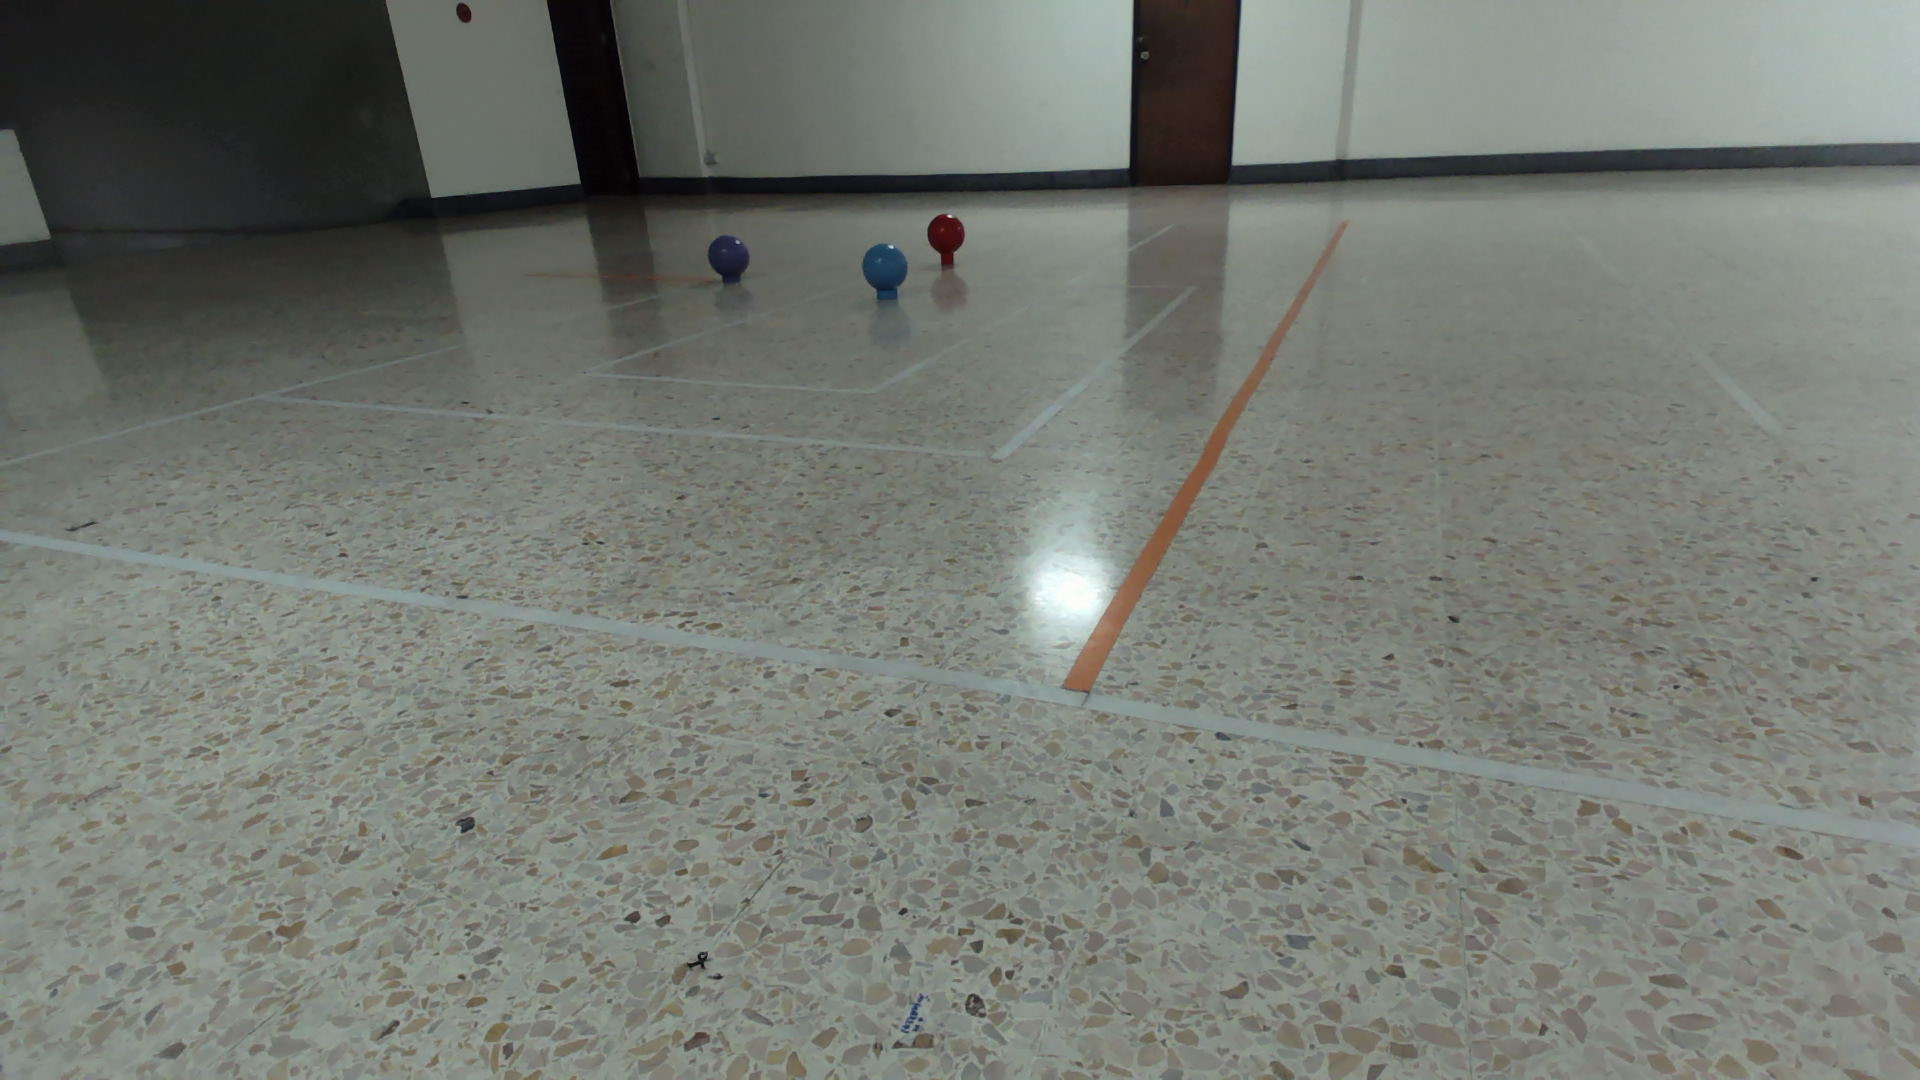Blue ball: (860, 241, 910, 293)
Purple ball: (705, 233, 752, 280)
Red ball: (924, 212, 965, 255)
